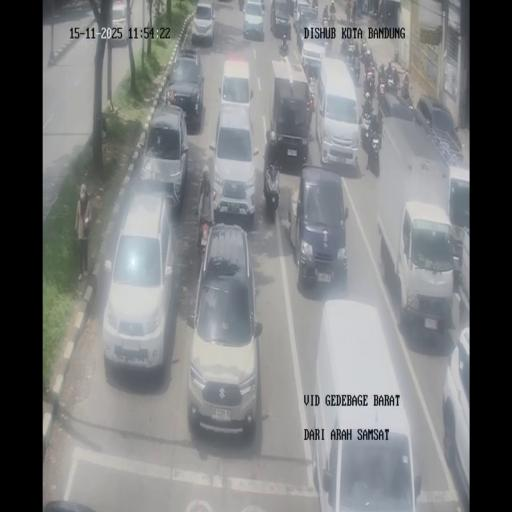car: (186, 226, 261, 437), (101, 188, 178, 376), (286, 165, 349, 292), (209, 102, 258, 228), (138, 102, 190, 211), (441, 329, 469, 504), (164, 47, 204, 130), (217, 55, 251, 116), (300, 32, 327, 78), (191, 1, 216, 46), (108, 1, 129, 46), (242, 0, 265, 41), (270, 0, 291, 39), (291, 0, 311, 30), (286, 0, 296, 15)
motorcycle: (355, 42, 408, 162), (330, 9, 374, 78), (196, 198, 215, 259), (264, 172, 280, 219), (364, 46, 378, 74), (360, 108, 372, 140), (306, 74, 316, 110), (350, 53, 361, 82), (364, 70, 375, 99), (401, 83, 413, 108), (377, 76, 388, 102), (386, 69, 397, 93), (370, 132, 380, 158), (296, 24, 305, 52), (279, 34, 289, 58), (340, 34, 350, 55), (322, 5, 329, 25), (378, 2, 384, 24), (351, 0, 356, 24), (329, 8, 336, 24), (354, 41, 360, 56), (362, 40, 368, 54), (312, 0, 318, 13)
truck: (311, 300, 417, 508), (373, 106, 466, 334), (268, 55, 313, 171), (316, 57, 361, 172), (415, 96, 463, 148), (459, 225, 469, 323)
